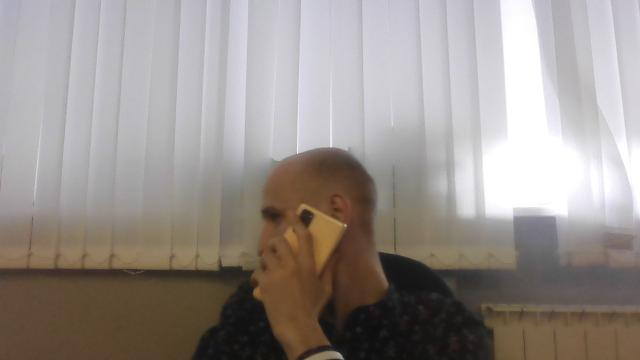Phone: (250, 200, 350, 304)
